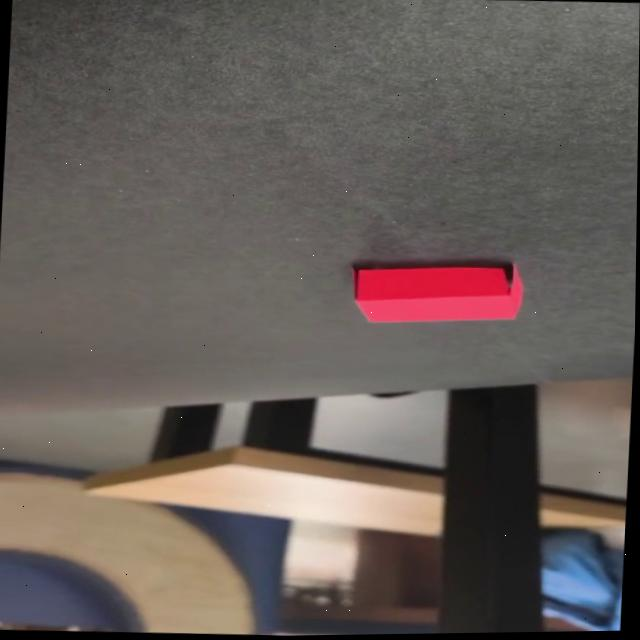red block: (347, 257, 524, 328)
